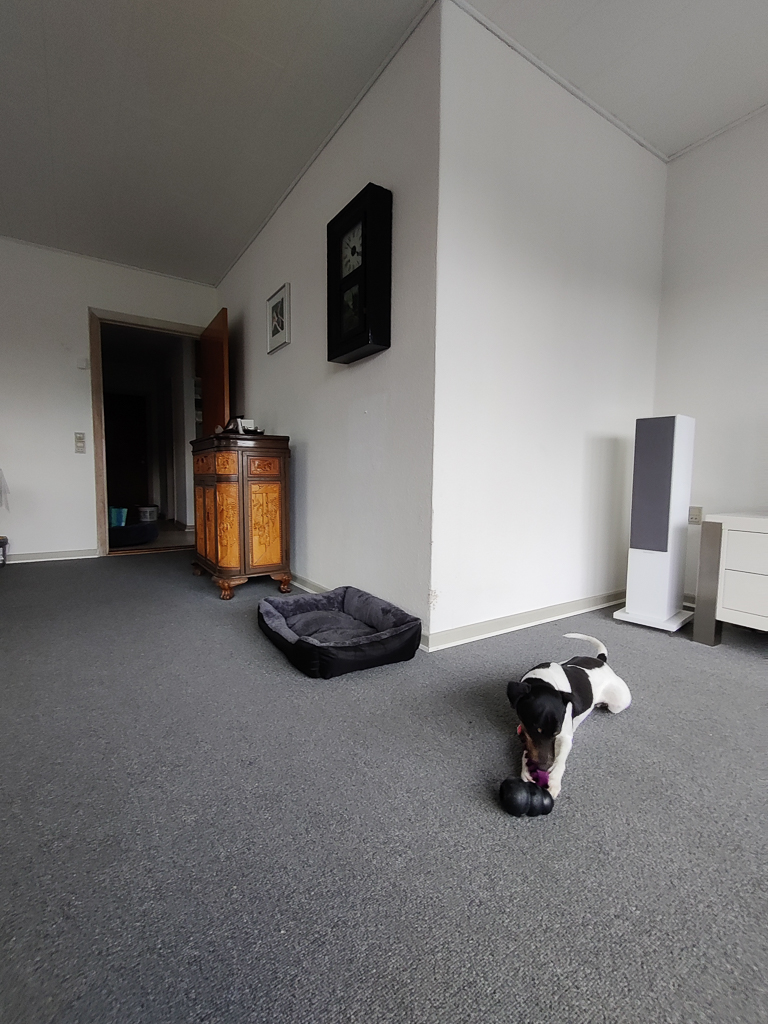Dog: (493, 621, 639, 807)
